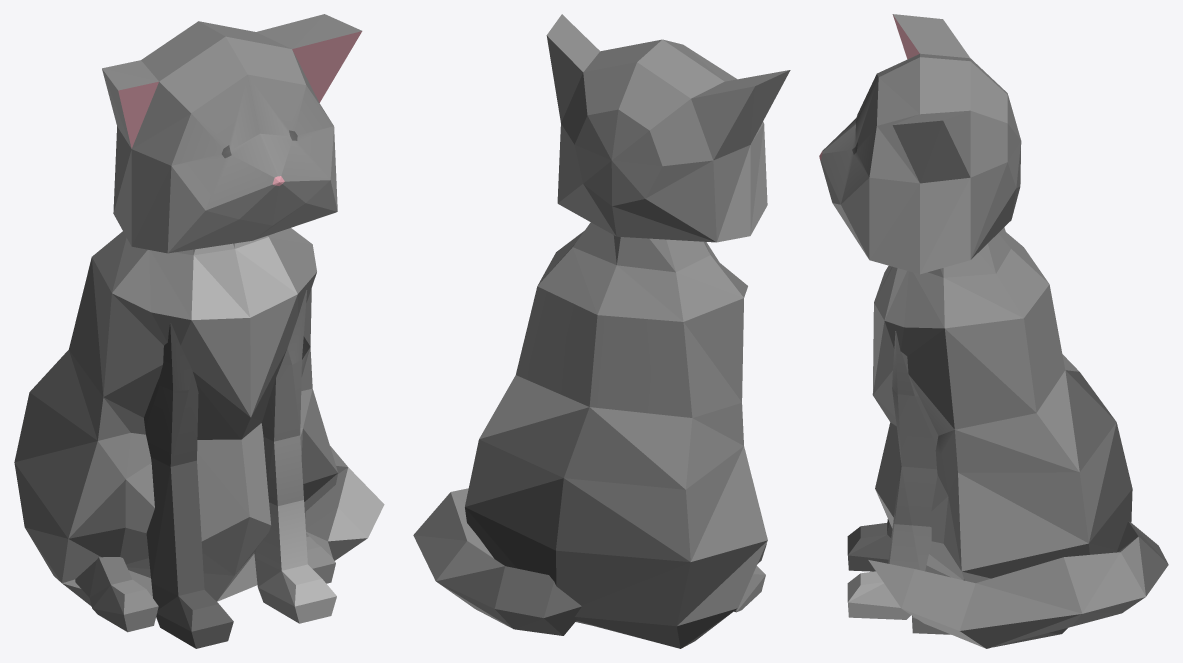
The model's file is gato.fbx.
3 renders of one model, left to right at view 1: azimuth 30°, elevation 25°; view 2: azimuth 150°, elevation 25°; view 3: azimuth 270°, elevation 25°, orthographic. The views are drawn at different scales.
Visible parts, largest first — view 1: cuerpo, cabeza, pata_del_der, pata_del_izq, cola, pata_tras_der, pata_tras_izq; view 2: cuerpo, cabeza, cola, pata_tras_der; view 3: cuerpo, cabeza, cola, pata_del_izq, pata_del_der.
Boxes of the visible parts, x1,y1,x2,y2 form: cuerpo: (14,228,337,606); cabeza: (102,14,362,253); pata_del_der: (144,323,233,648); pata_del_izq: (254,290,336,623); cola: (305,446,384,560); pata_tras_der: (75,557,158,632); pata_tras_izq: (306,533,335,583); cuerpo: (465,222,767,648); cabeza: (546,14,790,242); cola: (413,488,581,635); pata_tras_der: (734,566,765,612); cuerpo: (872,227,1132,647); cabeza: (819,14,1021,274); cola: (868,521,1168,648); pata_del_izq: (847,331,938,619); pata_del_der: (847,519,892,571).
Bounding box in the file's own units: 51.26 × 91.2 × 52.79.
